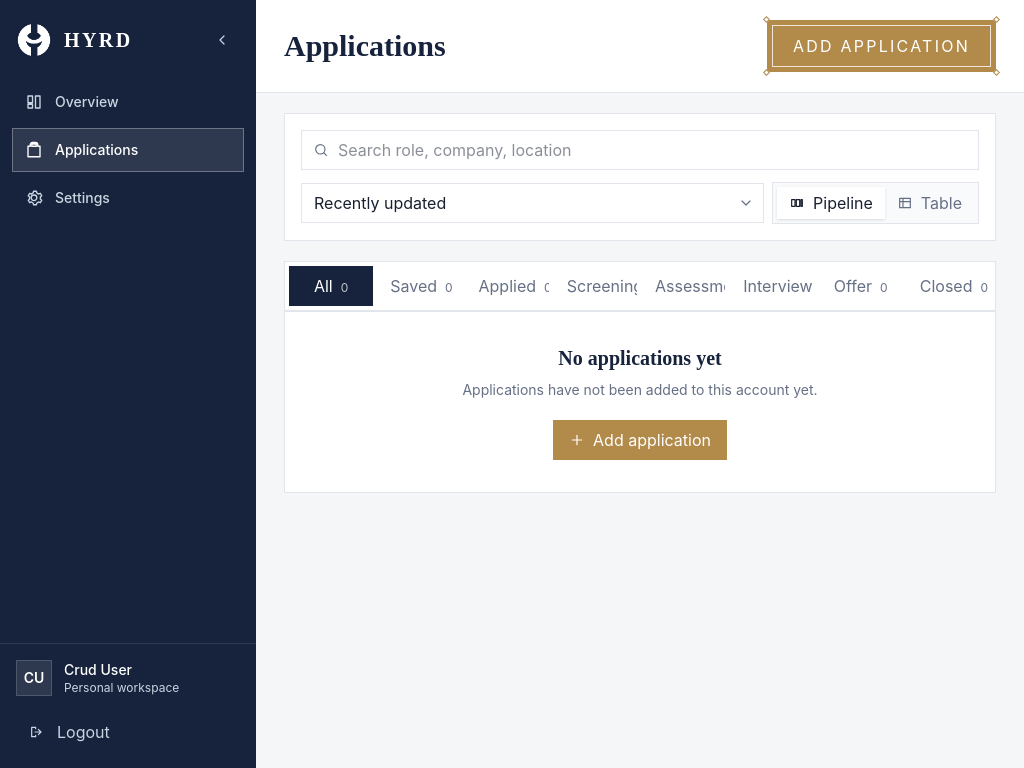
application CRUD UI › keeps create values after a failed request
The image size is (1024, 768).
Click the 1st button "Add application" at (882, 46), box [767,20,996,72]
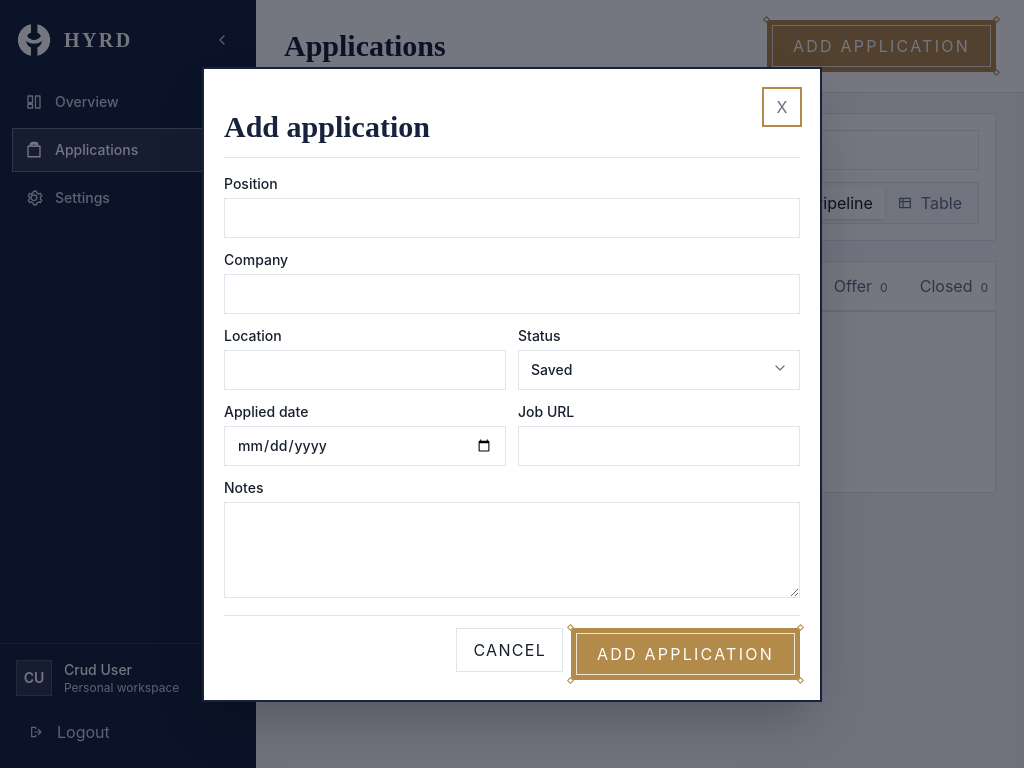
Type "Acme Atlas" into the field labelled "Company" at (512, 294), box [224,274,800,314]
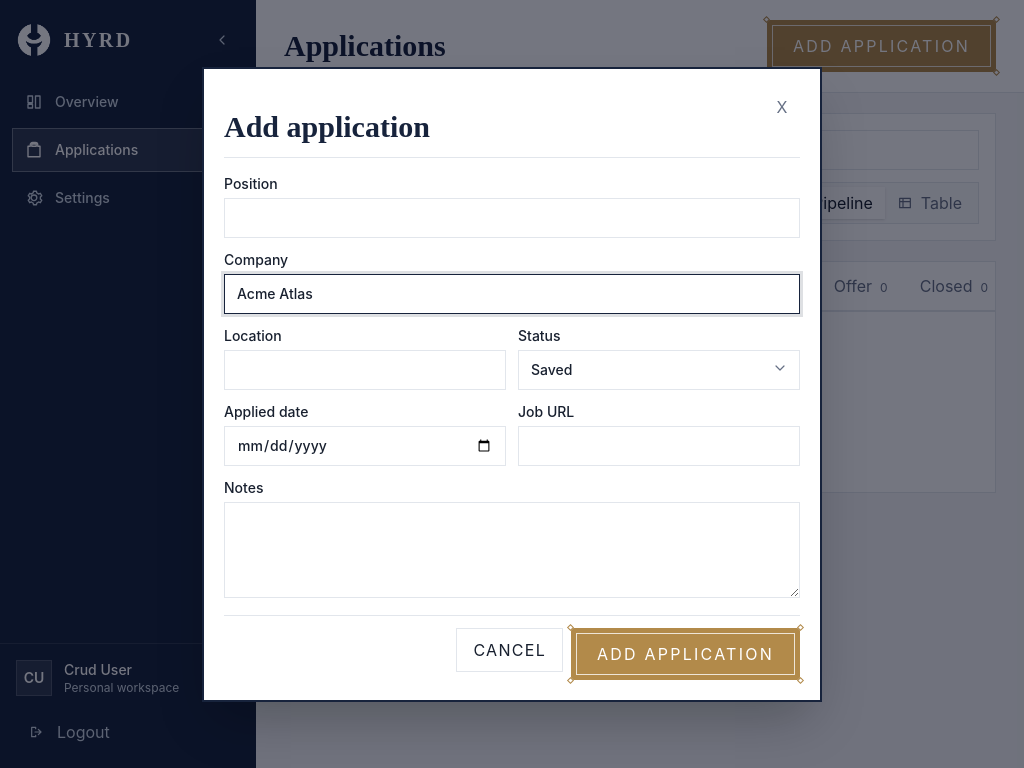
Type "Frontend Engineer" into the field labelled "Position" at (512, 218), box [224,198,800,238]
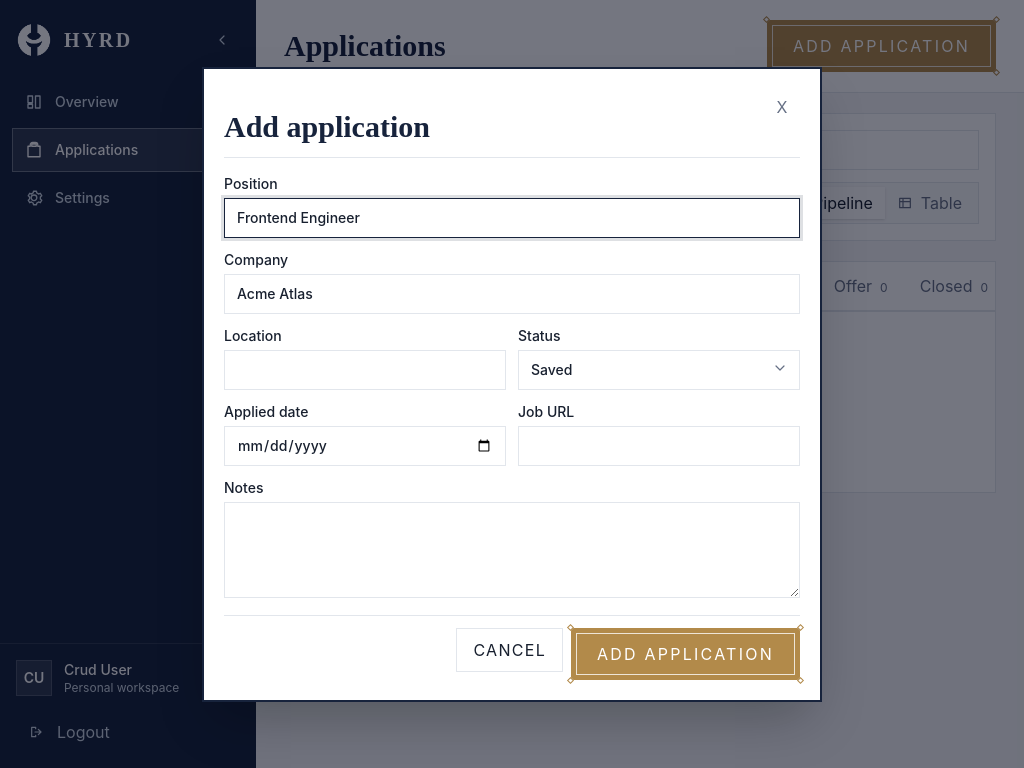
Type "ftp://example.com/job" into the field labelled "Job URL" at (659, 446), box [518,426,800,466]
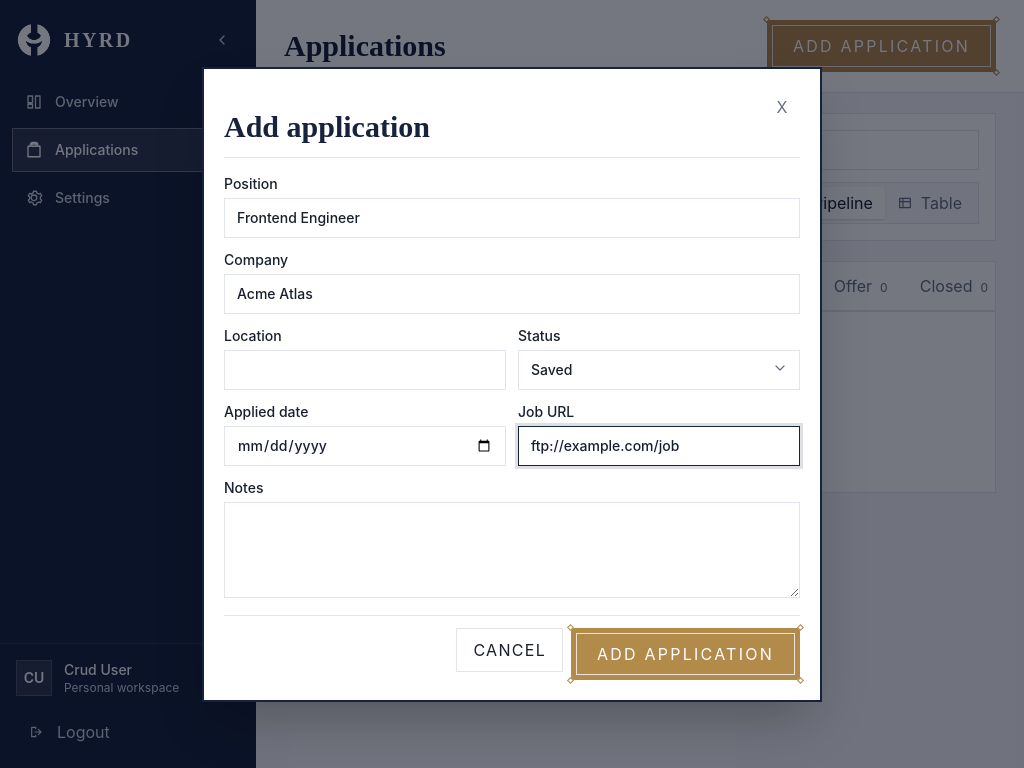
Click the button "Add application" at (686, 654), box [571,628,800,680]
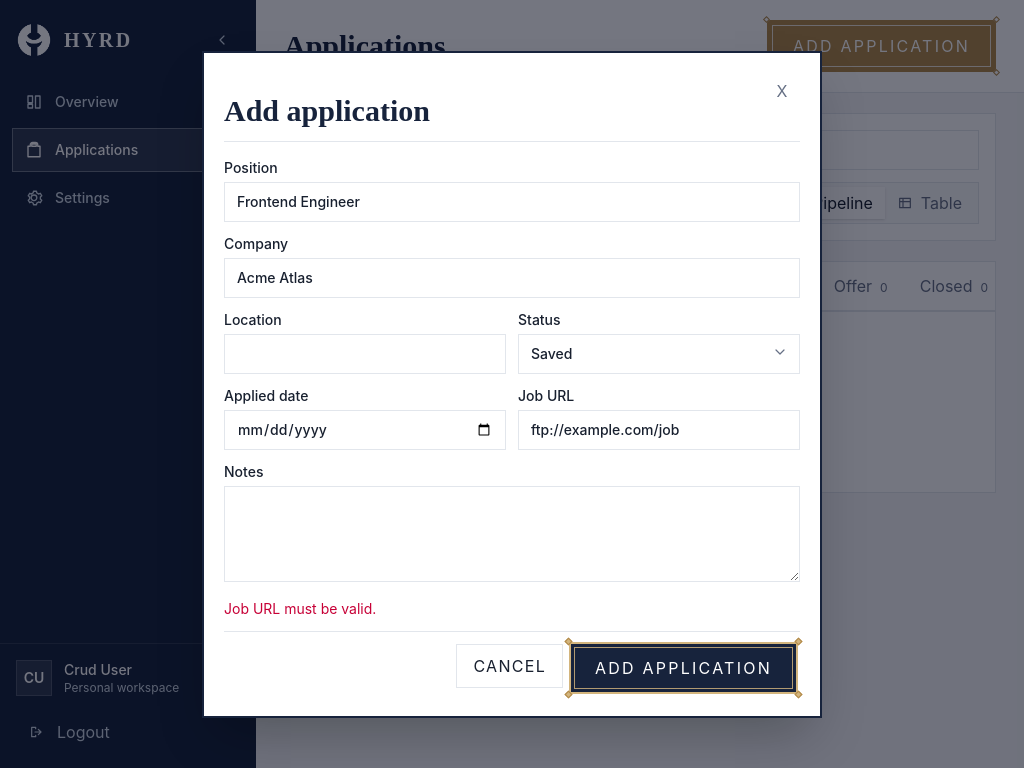
Expected: the text "Job URL must be valid." is shown, [224,600,376,616]
